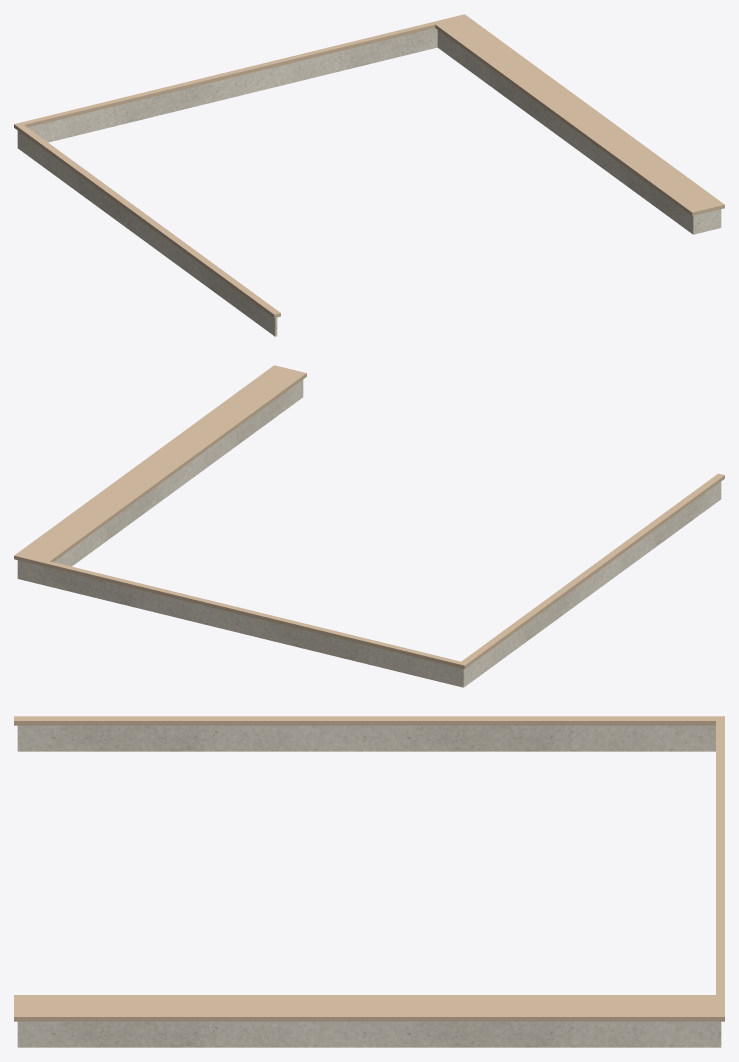
Rendered from stair_core_slab_192_168_5.glb.
3 renders of one model, top to bottom at view 1: azimuth 30°, elevation 25°; view 2: azimuth 150°, elevation 25°; view 3: azimuth 270°, elevation 25°, orthographic. The views are drawn at different scales.
Parts seen in each view (by area): view 1: stair_core_slab_192_168_5_plaster, stair_core_slab_192_168_5_floor; view 2: stair_core_slab_192_168_5_plaster, stair_core_slab_192_168_5_floor; view 3: stair_core_slab_192_168_5_plaster, stair_core_slab_192_168_5_floor.
Part boxes in pixels (x1=…): stair_core_slab_192_168_5_plaster: x1=17, y1=28, x2=721, y2=336; stair_core_slab_192_168_5_floor: x1=14, y1=14, x2=724, y2=318; stair_core_slab_192_168_5_plaster: x1=17, y1=379, x2=721, y2=687; stair_core_slab_192_168_5_floor: x1=14, y1=365, x2=724, y2=669; stair_core_slab_192_168_5_plaster: x1=17, y1=725, x2=721, y2=1047; stair_core_slab_192_168_5_floor: x1=14, y1=716, x2=724, y2=1021.
Size of the model in its own units: 4 by 0.2 by 4.
Materials: 2 (1 with a texture image).
